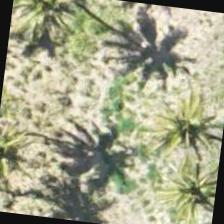Kelapa_Sawit: (134, 70, 223, 171), (5, 0, 98, 76), (143, 136, 221, 223)
